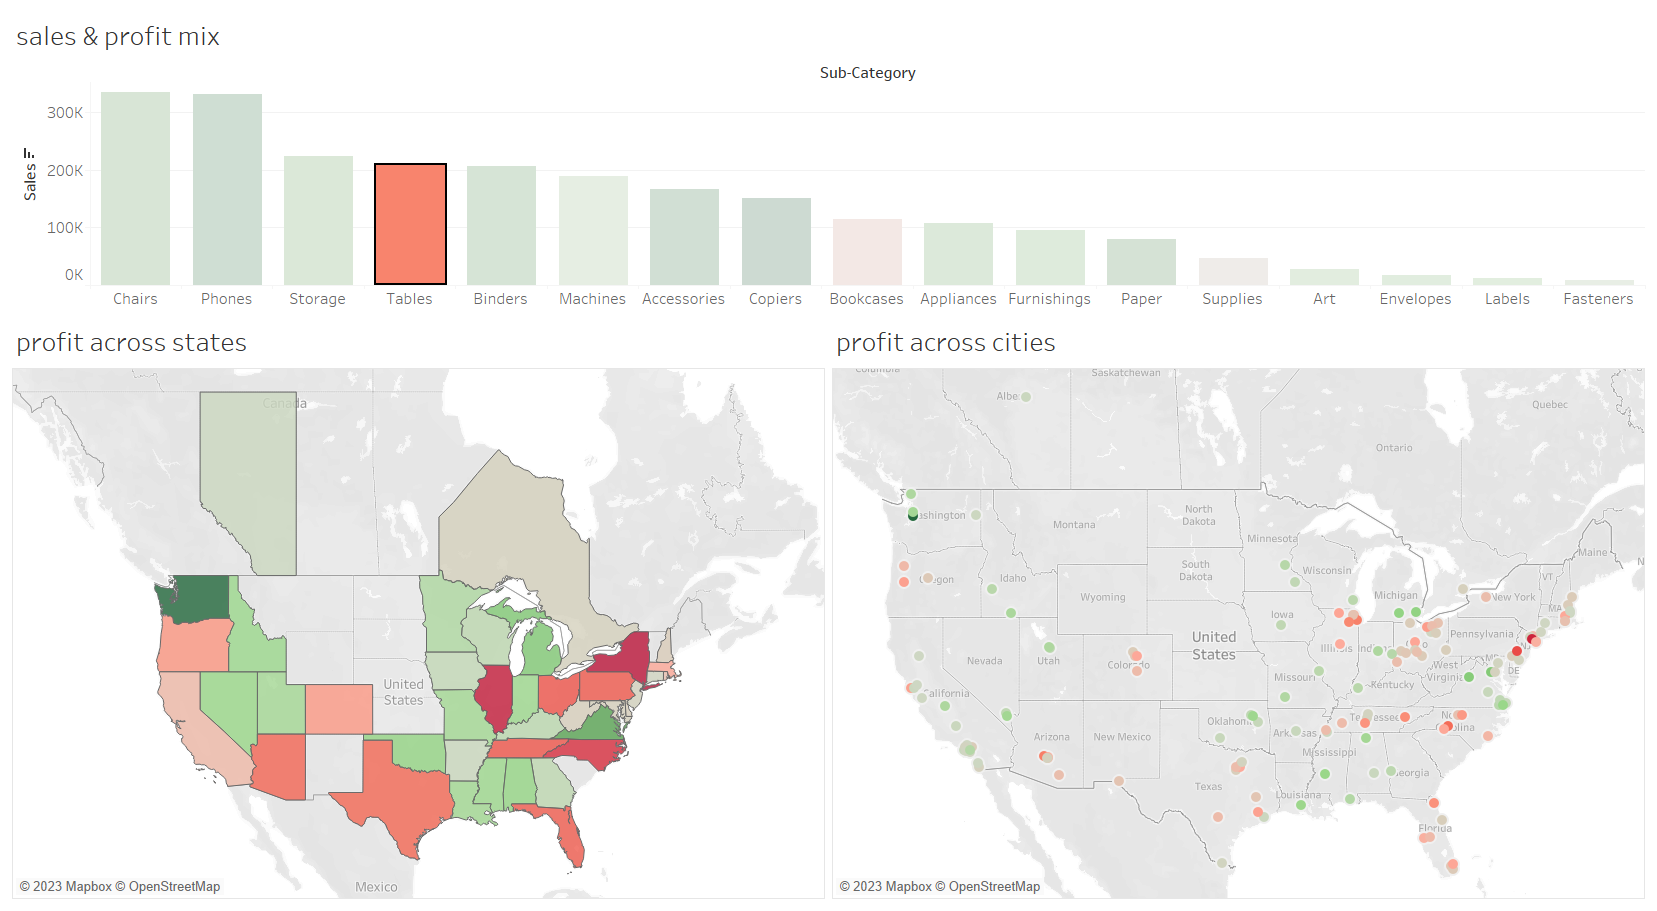

What the dashboard file says about the page in this screenshot:
{"tool":"tableau","page":{"name":"geo analysis","canvas":[1000,1000],"units":"permille","ordinal":0},"visuals":[{"type":"worksheet","title":"sales & profit mix","mark":"Automatic","rows":["Sales"],"cols":["Sub-Category"],"box":[4.8,8.8,990.3,335.9]},{"type":"worksheet","title":"profit across states","mark":"Multipolygon","box":[4.8,344.7,495.2,646.6]},{"type":"worksheet","title":"profit across cities","mark":"Automatic","box":[500,344.7,495.2,646.6]}]}

Visuals, with their boxes on the dashboard's canvas, which has no fixed pixel size, in thousandths of its width and height (x1, y1, x2, y2). These are canvas units, not pixel positions in the 1657x911 screenshot, which may show the page scaled, cropped or inside an application window:
"sales & profit mix" worksheet: (x1=5, y1=9, x2=995, y2=345)
"profit across states" worksheet (Multipolygon marks): (x1=5, y1=345, x2=500, y2=991)
"profit across cities" worksheet: (x1=500, y1=345, x2=995, y2=991)
